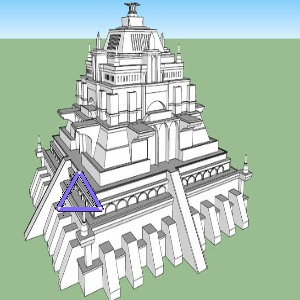triangle: (52, 169, 105, 215)
